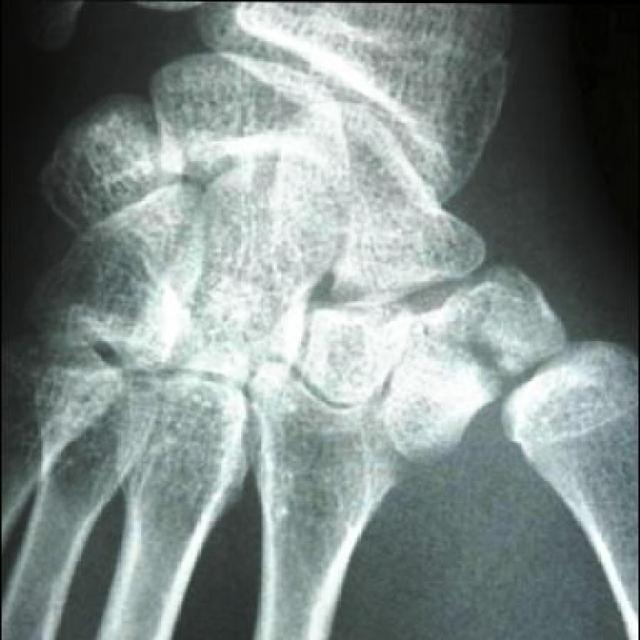Fracture: (400, 278, 546, 418)
